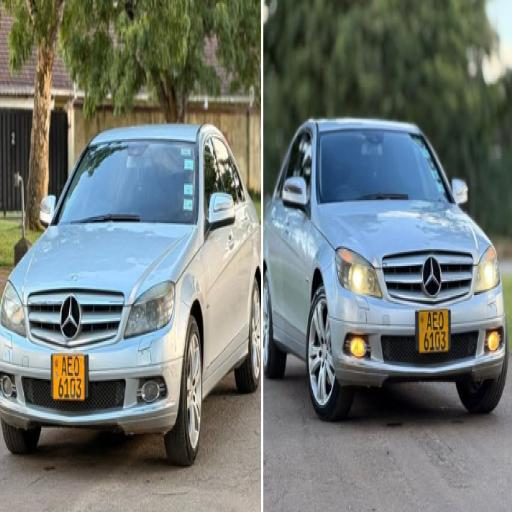number-plates: (51, 353, 82, 398)
